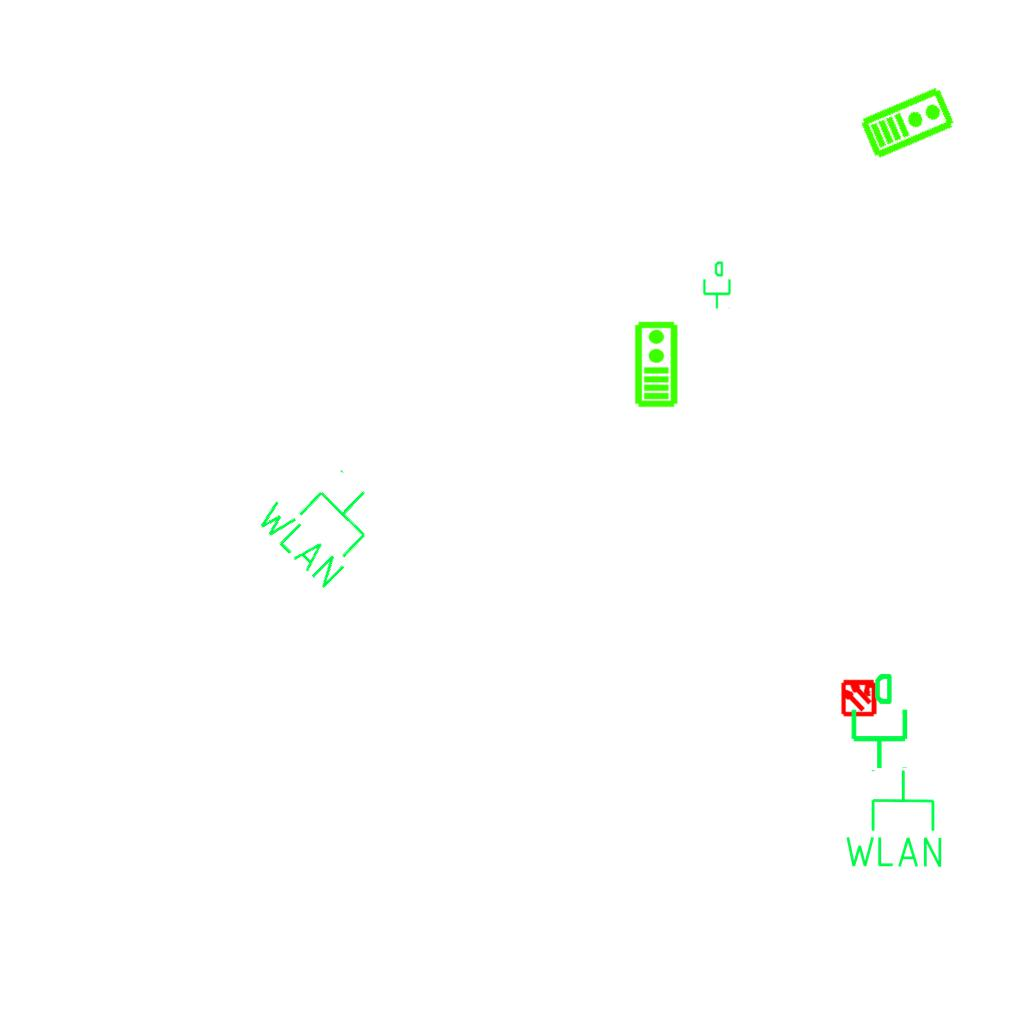Datenanschluss_einfach: (843, 671, 912, 771), (699, 260, 733, 310)
Gegensprechanlage_mit_Video: (857, 83, 958, 161), (632, 320, 679, 408)
OT_Multisensormelder_(Kombination_RMO_WMD): (831, 669, 887, 725)
WLAN: (249, 446, 397, 595), (841, 767, 946, 871)
